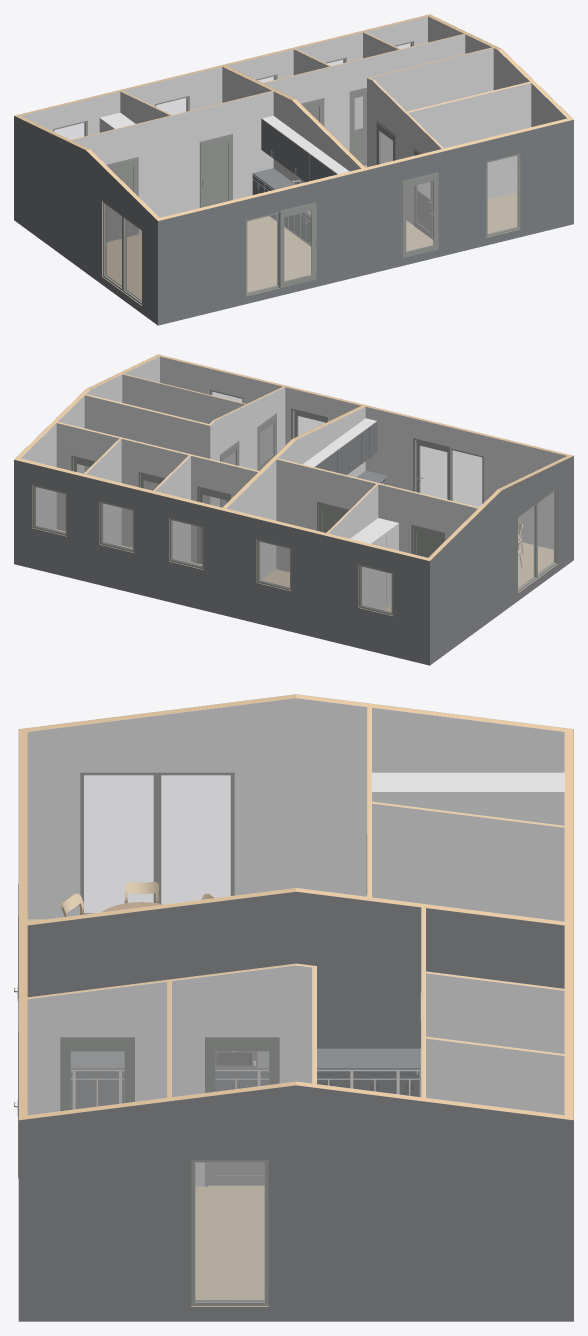
Rendered from Kačiukai_(7,2x12,0m)_R00.fbx.
The picture shows the model from 3 angles, top to bottom: view 1: azimuth 30°, elevation 25°; view 2: azimuth 150°, elevation 25°; view 3: azimuth 270°, elevation 25°; orthographic projection. The views are drawn at different scales.
Parts seen in each view (by area): view 1: IfcWall/Part:2336143, IfcWall/Part:2336140, IfcWall/Part:2384055, IfcWall/Part:2336148, IfcWindow/Aluprof_MB-86-SI_E_Alu_Window-1sash-FIX_ENG_R-000. (×5), IfcSlab/Part:2336151, IfcWall/Part:2384033, IfcWall/Part:2384051, IfcWall/Part:2384040, IfcDoor/Simple_vitree_-_1:1000x2100:2324002, IfcWall/Part:2384037, IfcDoor/Simple_vitree_-_1:1000x2100:2323598 (+21 smaller); view 2: IfcWall/Part:2336149, IfcWall/Part:2336140, IfcWall/Part:2336142, IfcWindow/Aluprof_MB-86-SI_E_Alu_Window-1sash-FIX_ENG_R-000. (×6), IfcWall/Part:2384039, IfcWall/Part:2384053, IfcWall/Part:2384037, IfcWall/Part:2384054, IfcWall/Part:2336145, IfcWall/Part:2384032, IfcWall/Part:2384048, IfcWall/Part:2384049 (+24 smaller); view 3: IfcWall/Part:2336146, IfcWall/Part:2336139, IfcWall/Part:2384062, IfcWall/Part:2384058, IfcWall/Part:2384036, IfcWindow/Aluprof_MB-86-SI_E_Alu_Window-1sash-FIX_ENG_R-0004, IfcWall/Part:2384035, IfcWindow/Aluprof_MB-86-SI_E_Alu_Window-1sash-FIX_ENG_R-000, IfcWindow/Aluprof_MB-86-SI_E_Alu_Window-1sash-FIX_ENG_R-000., IfcWall/Part:2384063, IfcWall/Part:2384046, IfcWall/Part:2384043 (+13 smaller).
Boxes of the visible parts, x1,y1,x2,y2 form: IfcWall/Part:2336143: (158, 120, 573, 325); IfcWall/Part:2336140: (14, 116, 157, 325); IfcWall/Part:2384055: (72, 91, 273, 233); IfcWall/Part:2336148: (21, 16, 427, 135); IfcWindow/Aluprof_MB-86-SI_E_Alu_Window-1sash-FIX_ENG_R-000. (×5): (53, 96, 520, 295); IfcSlab/Part:2336151: (106, 165, 517, 300); IfcWall/Part:2384033: (408, 83, 531, 199); IfcWall/Part:2384051: (264, 34, 465, 151); IfcWall/Part:2384040: (371, 48, 493, 163); IfcDoor/Simple_vitree_-_1:1000x2100:2324002: (277, 202, 316, 288); IfcWall/Part:2384037: (367, 78, 441, 225); IfcDoor/Simple_vitree_-_1:1000x2100:2323598: (401, 172, 438, 258); IfcWall/Part:2336149: (14, 459, 429, 665); IfcWall/Part:2336140: (430, 456, 573, 665); IfcWall/Part:2336142: (160, 356, 566, 549); IfcWindow/Aluprof_MB-86-SI_E_Alu_Window-1sash-FIX_ENG_R-000. (×6): (32, 448, 536, 615); IfcWall/Part:2384039: (84, 395, 210, 504); IfcWall/Part:2384053: (276, 459, 375, 572); IfcWall/Part:2384037: (210, 387, 285, 506); IfcWall/Part:2384054: (378, 484, 477, 553); IfcWall/Part:2336145: (21, 356, 159, 529); IfcWall/Part:2384032: (122, 374, 245, 464); IfcWall/Part:2384048: (121, 439, 188, 547); IfcWall/Part:2384049: (56, 423, 119, 530); IfcWall/Part:2336146: (18, 1085, 573, 1321); IfcWall/Part:2336139: (27, 698, 564, 919); IfcWall/Part:2384062: (27, 891, 421, 1048); IfcWall/Part:2384058: (372, 803, 564, 921); IfcWall/Part:2384036: (172, 965, 312, 1186); IfcWindow/Aluprof_MB-86-SI_E_Alu_Window-1sash-FIX_ENG_R-0004: (191, 1160, 268, 1305); IfcWall/Part:2384035: (27, 981, 167, 1115); IfcWindow/Aluprof_MB-86-SI_E_Alu_Window-1sash-FIX_ENG_R-000: (80, 772, 158, 914); IfcWindow/Aluprof_MB-86-SI_E_Alu_Window-1sash-FIX_ENG_R-000.: (156, 772, 234, 904); IfcWall/Part:2384063: (426, 908, 564, 988); IfcWall/Part:2384046: (426, 973, 564, 1053); IfcWall/Part:2384043: (426, 1038, 564, 1115).
Size of the model in its own units: 1200 by 338 by 726.
